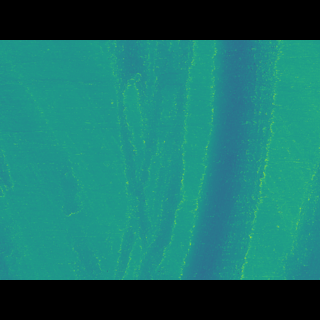Loch: (180, 68, 287, 249), (103, 67, 198, 249), (284, 158, 319, 250)
